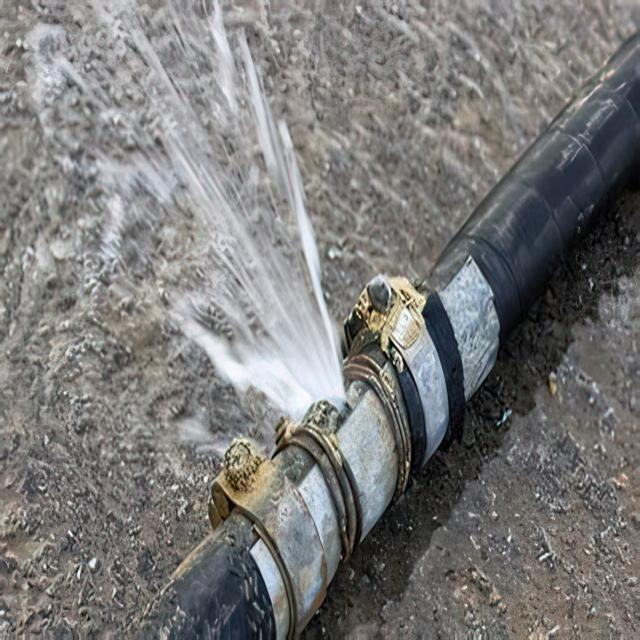leak: (77, 0, 352, 427)
